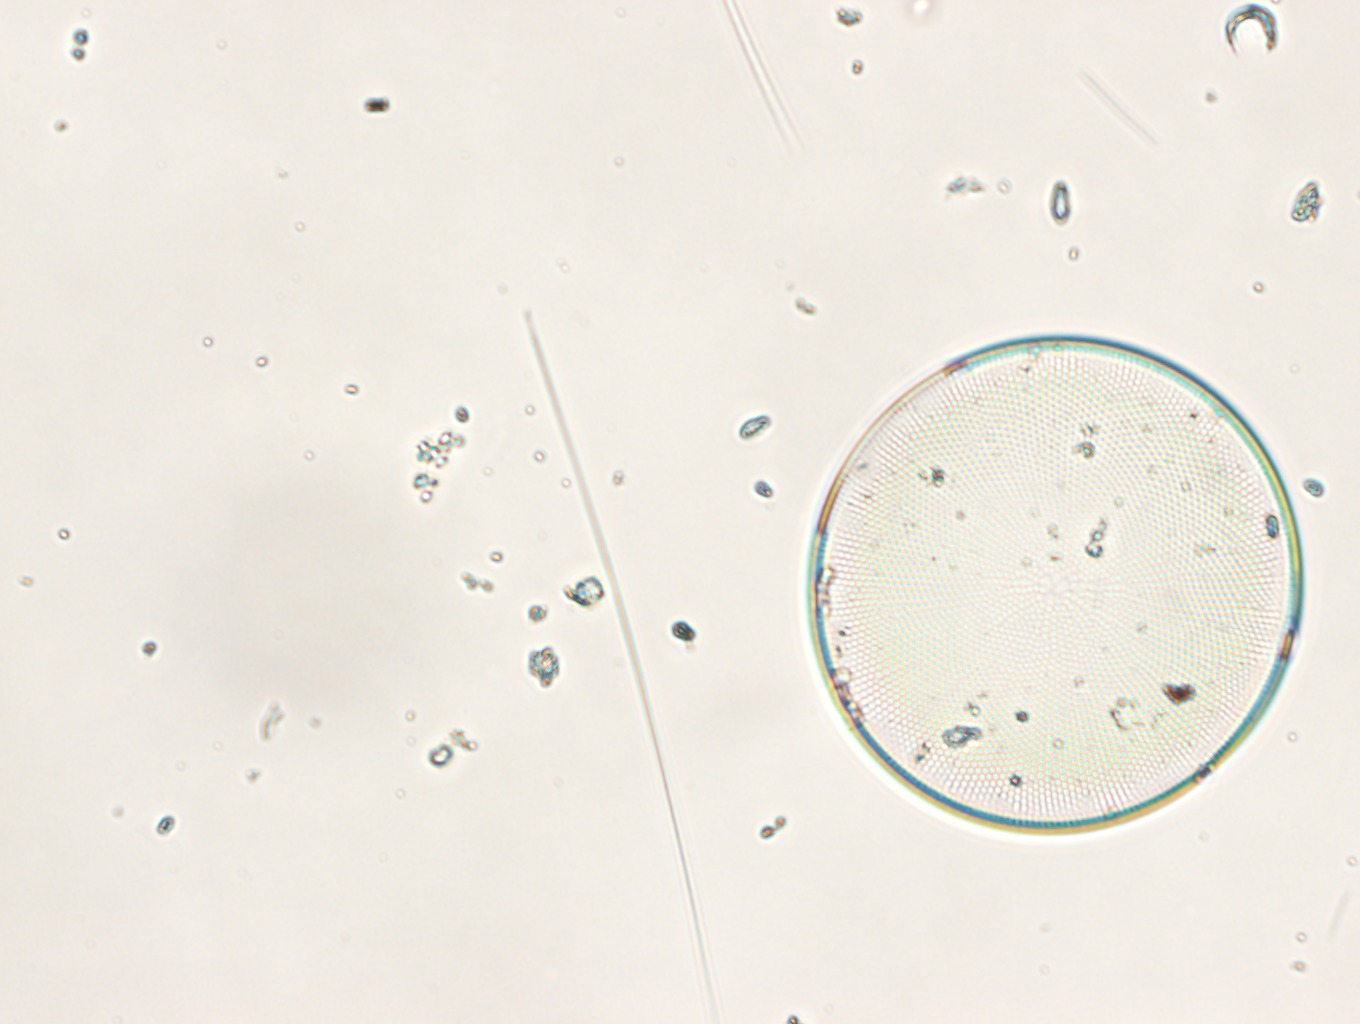coscinodiscus: (808, 335, 1305, 833)
